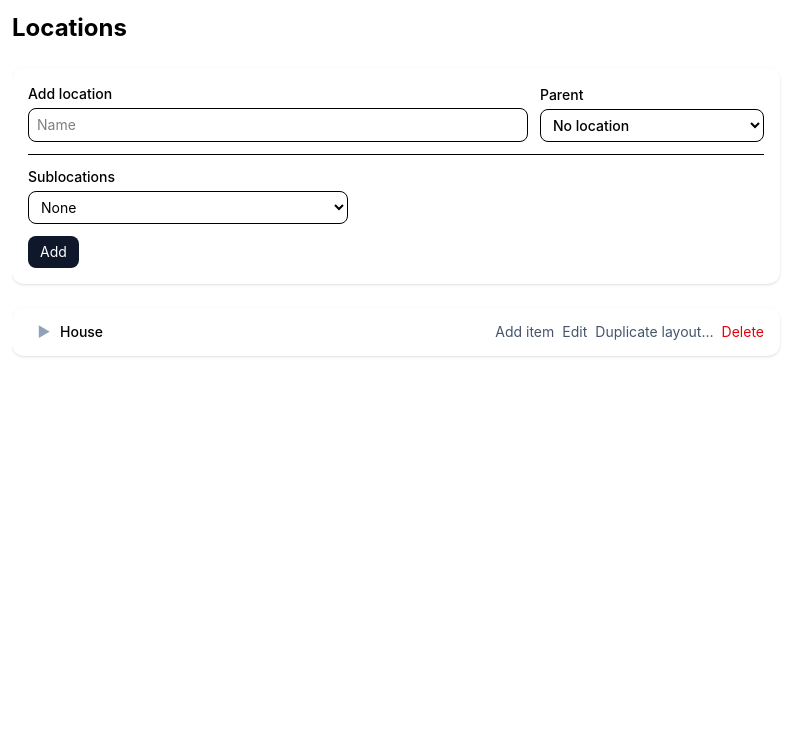
Test: LocationsView › nested 2x2 compact preview renders a header plus an indented tree in creation order
Select "Generate grid" in the 2nd dropdown at (188,208), box x1=28 y1=191 x2=348 y2=224
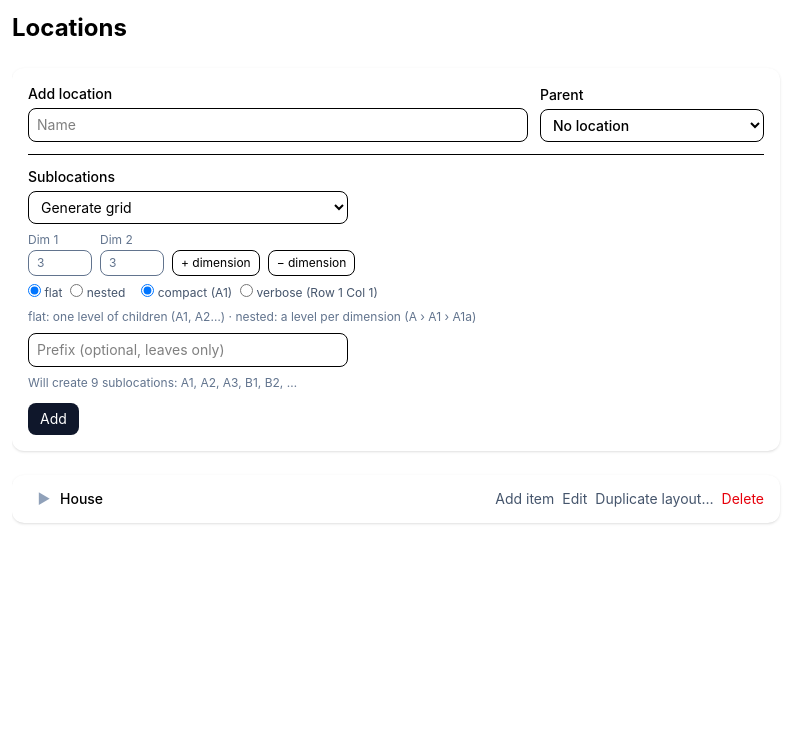
Click the radio button labelled "nested".
click(77, 290)  # box x1=70 y1=284 x2=83 y2=297
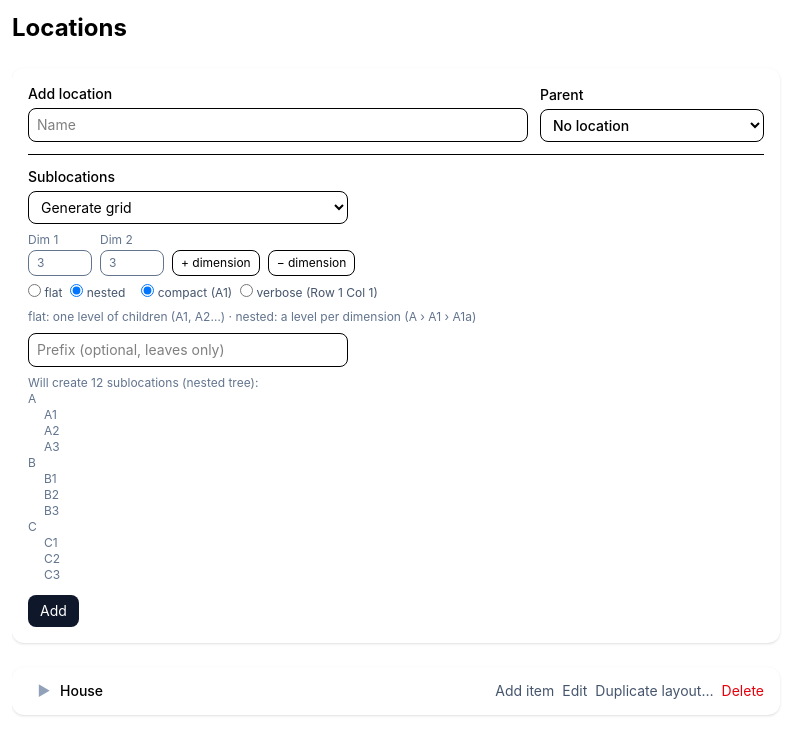
Replace the text in the number field labelled "Dim 1" with "2" at (60,263), box x1=28 y1=250 x2=92 y2=276
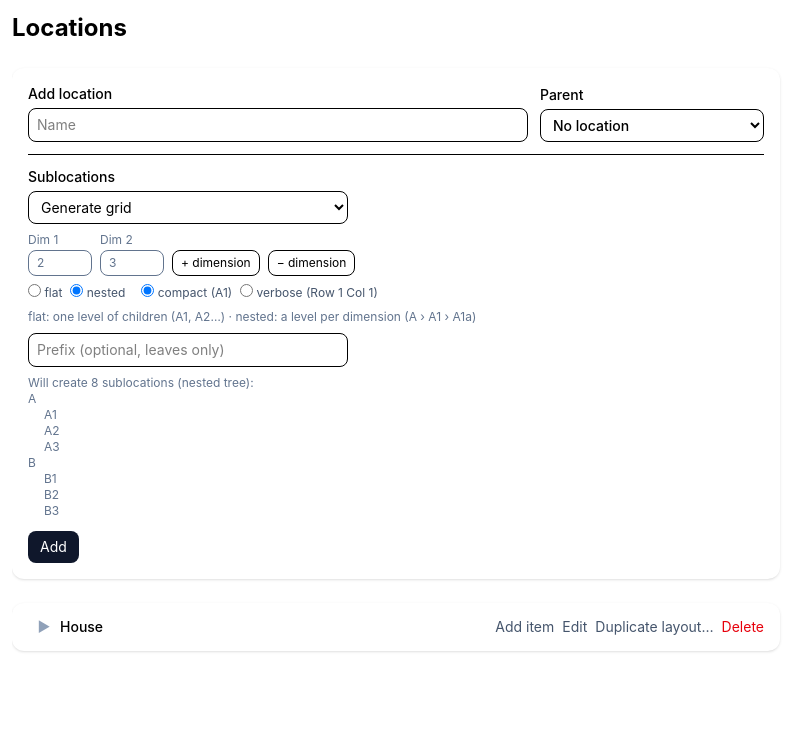
Replace the text in the number field labelled "Dim 2" with "2" at (132,263), box x1=100 y1=250 x2=164 y2=276
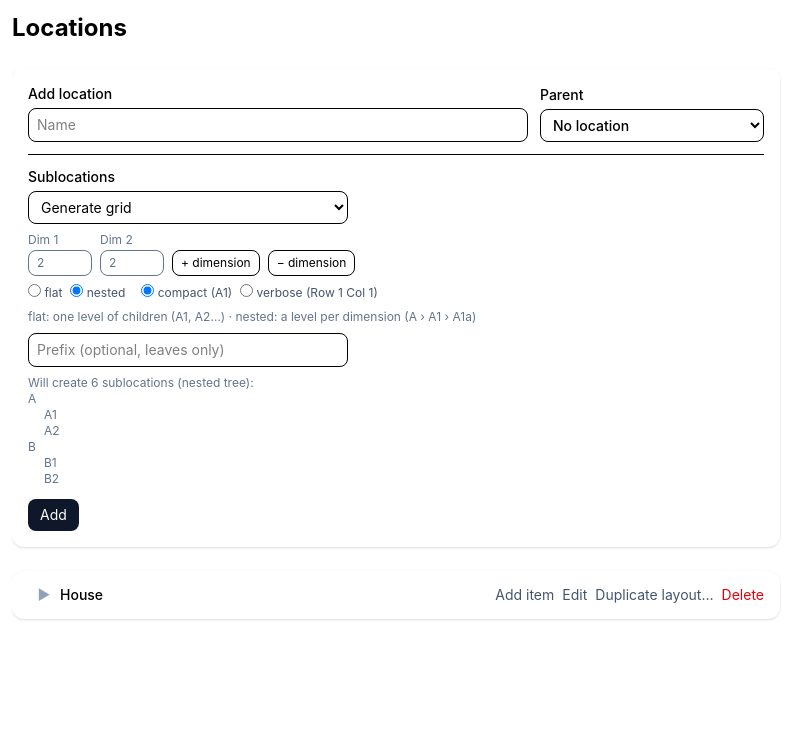
Expected: the element showing "Will create 6 sublocations (nested tree): A A1 A2 B B1 B2" is shown, x1=28 y1=375 x2=254 y2=486
